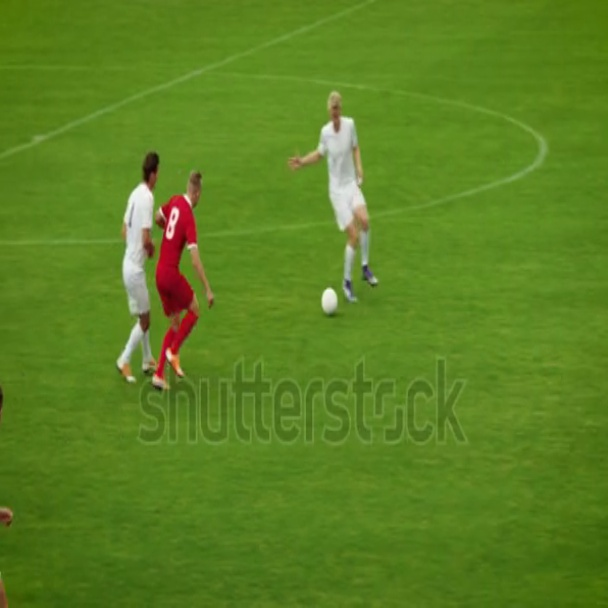ball: (323, 285, 341, 321)
